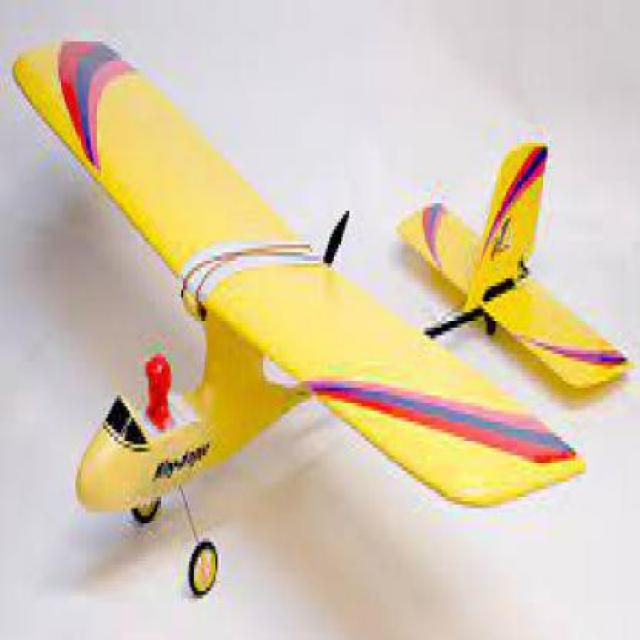iha: (12, 32, 640, 611)
